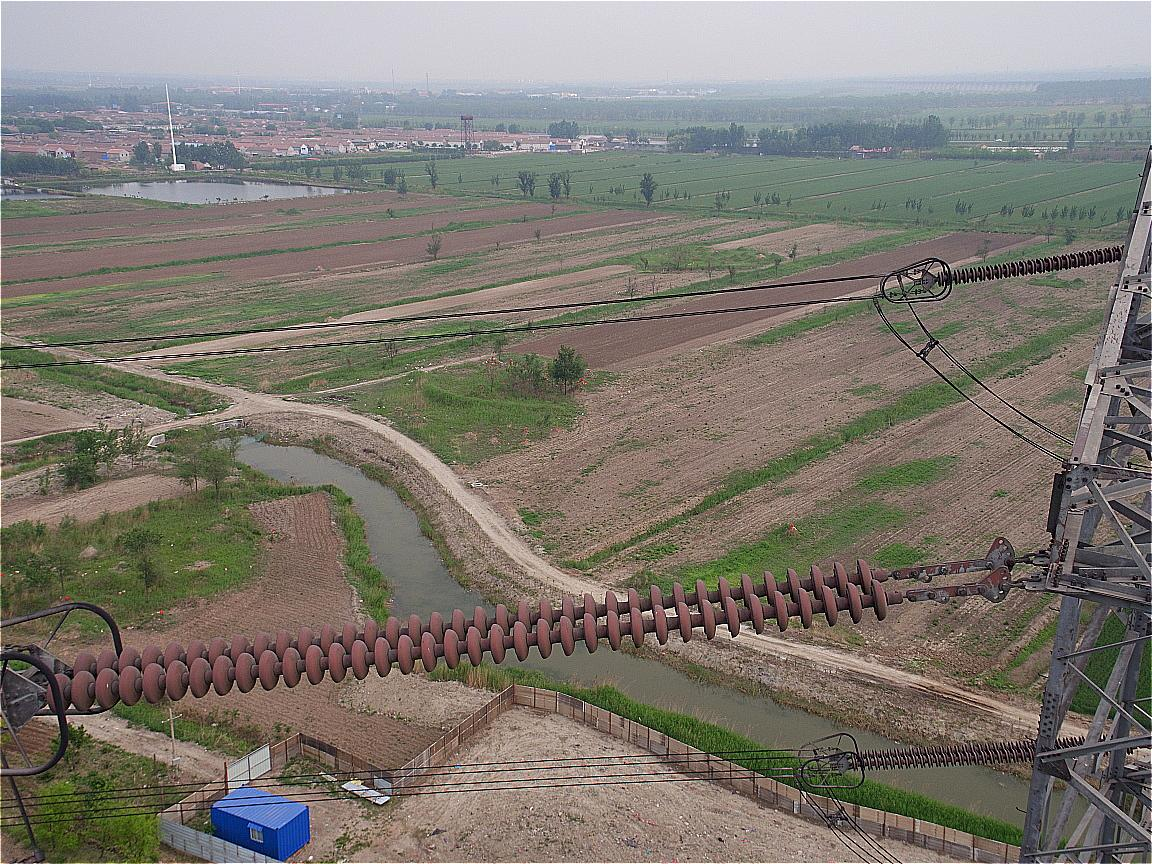insultor1: (45, 558, 890, 716)
insultor2: (935, 240, 1126, 288), (852, 736, 1034, 769)
